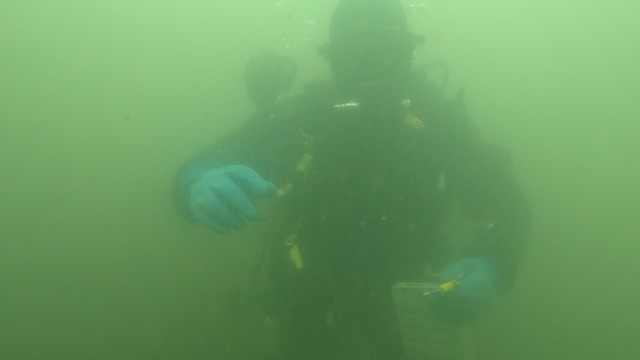Diver: (153, 1, 544, 350)
Hand: (178, 154, 284, 238), (421, 254, 510, 334)
Head: (317, 1, 433, 102)
